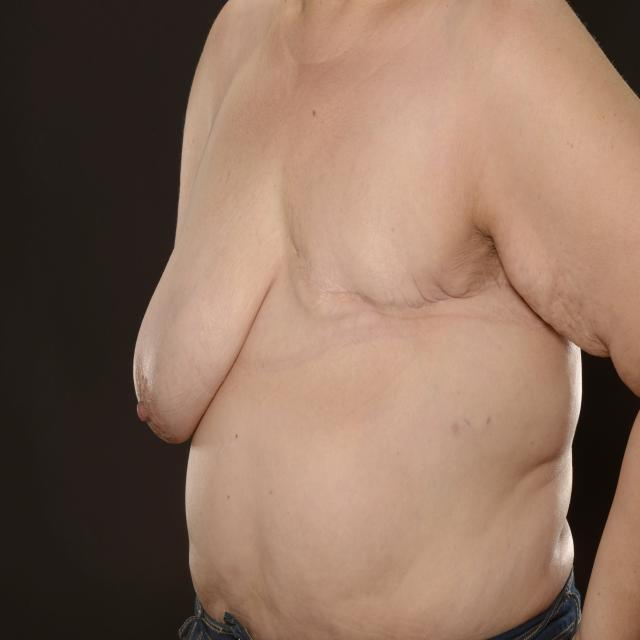wound: (287, 205, 496, 336)
